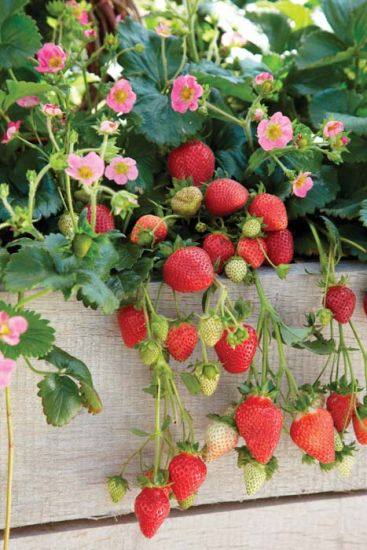ripe_strawberry: (233, 393, 285, 467), (289, 406, 337, 464), (161, 245, 215, 294), (168, 140, 217, 188), (215, 323, 259, 374), (134, 485, 173, 540), (166, 451, 208, 502), (205, 179, 250, 217), (164, 318, 201, 363), (118, 302, 152, 349), (250, 192, 289, 232), (204, 230, 237, 276), (321, 284, 357, 325), (327, 388, 358, 434), (264, 227, 295, 266), (236, 234, 269, 270), (84, 201, 117, 237), (131, 215, 169, 243), (351, 405, 367, 446)
unripe_strawberry: (202, 415, 242, 465), (332, 433, 358, 479), (171, 187, 204, 219), (194, 361, 223, 397), (243, 460, 268, 498), (200, 312, 226, 347), (224, 257, 250, 284), (137, 338, 159, 367), (58, 212, 81, 238), (150, 315, 170, 344), (109, 476, 129, 505), (241, 218, 262, 238), (178, 493, 199, 510)
